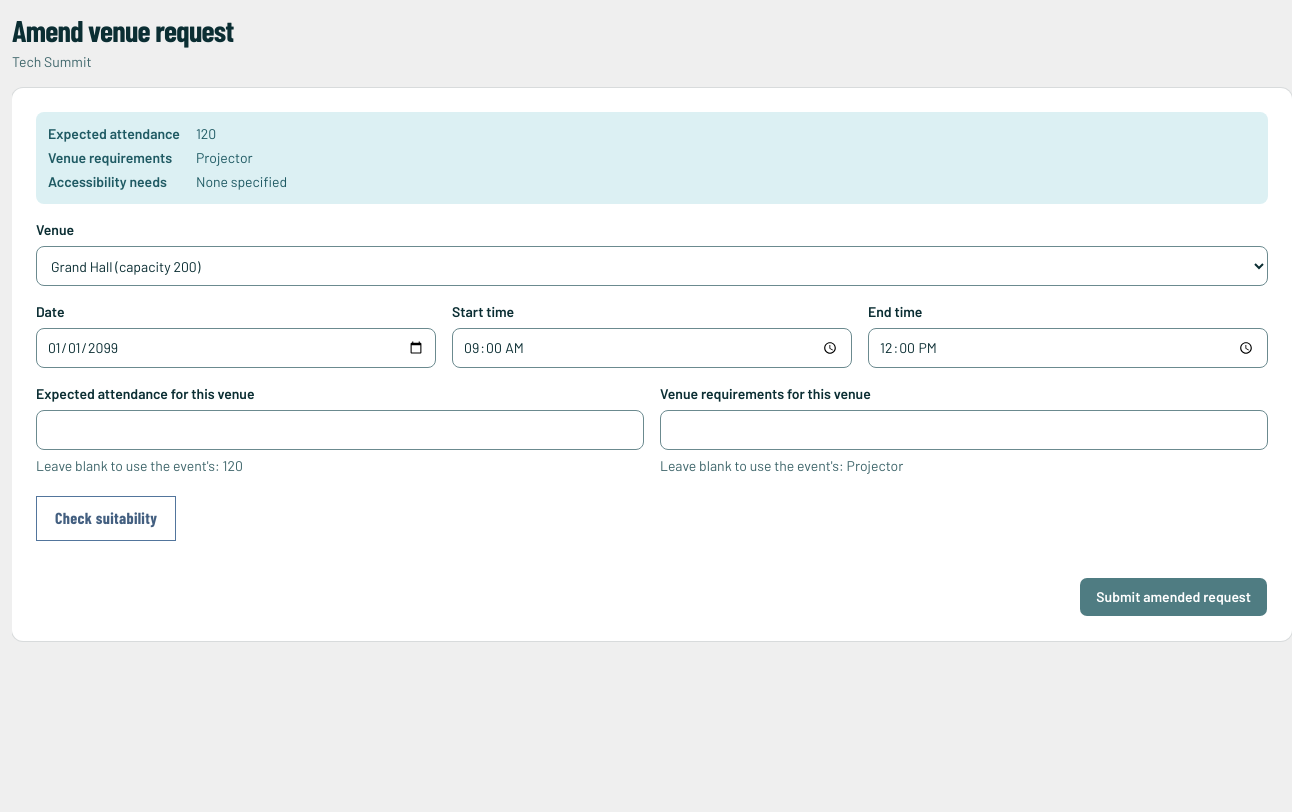
Test: SCRUM-60/AC1 amending a rejected request (60-S1) › 60-S2: shows the server's refusal for a repeat of a rejected slot
Click the button "Submit amended request".
click(1174, 597)  # box [1079,577,1268,617]
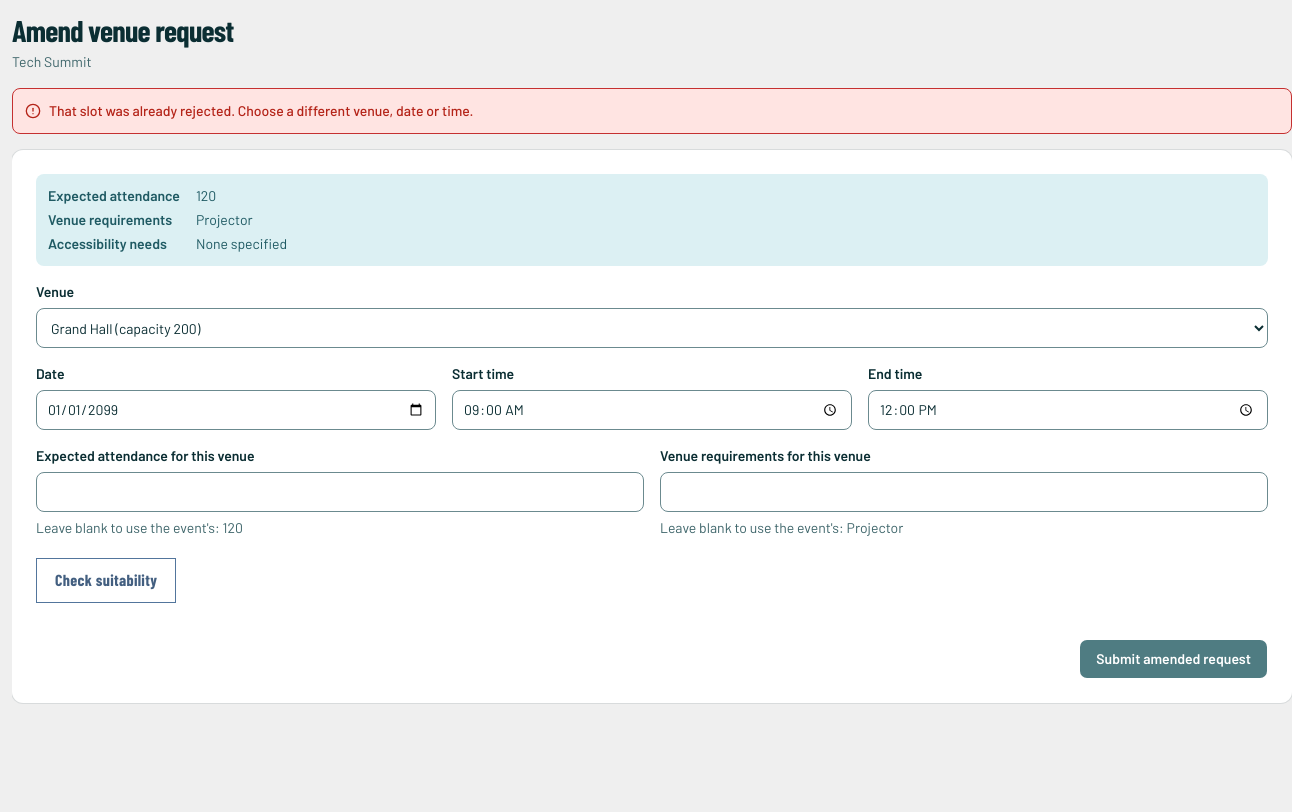
Now the message shows "already rejected", box [49,102,473,119]
